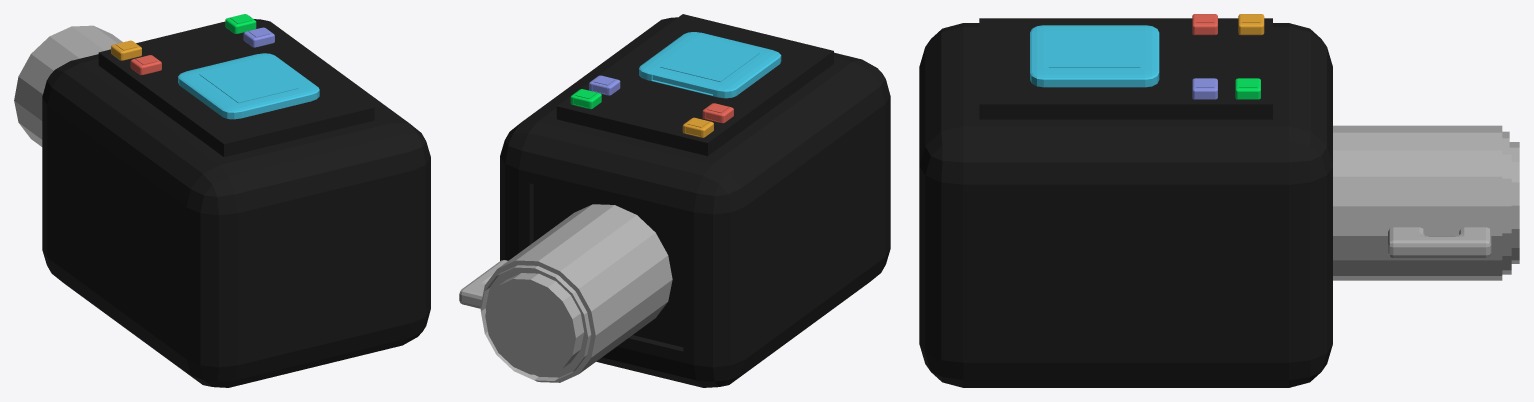
Rendered from cafetera_1 1.fbx.
3 views of the same model, side by side, from view 1: azimuth 30°, elevation 25°; view 2: azimuth 150°, elevation 25°; view 3: azimuth 270°, elevation 25° (orthographic). The views are drawn at different scales.
Visible parts, largest first — view 1: Cube.033; view 2: Cube.033; view 3: Cube.033.
Part boxes in pixels (box(x1,y1,x2,y2)): Cube.033: box(14, 14, 430, 387); Cube.033: box(459, 14, 890, 387); Cube.033: box(919, 14, 1519, 387).
Bounding box in the file's own units: 0.03 × 0.029 × 0.0557.
